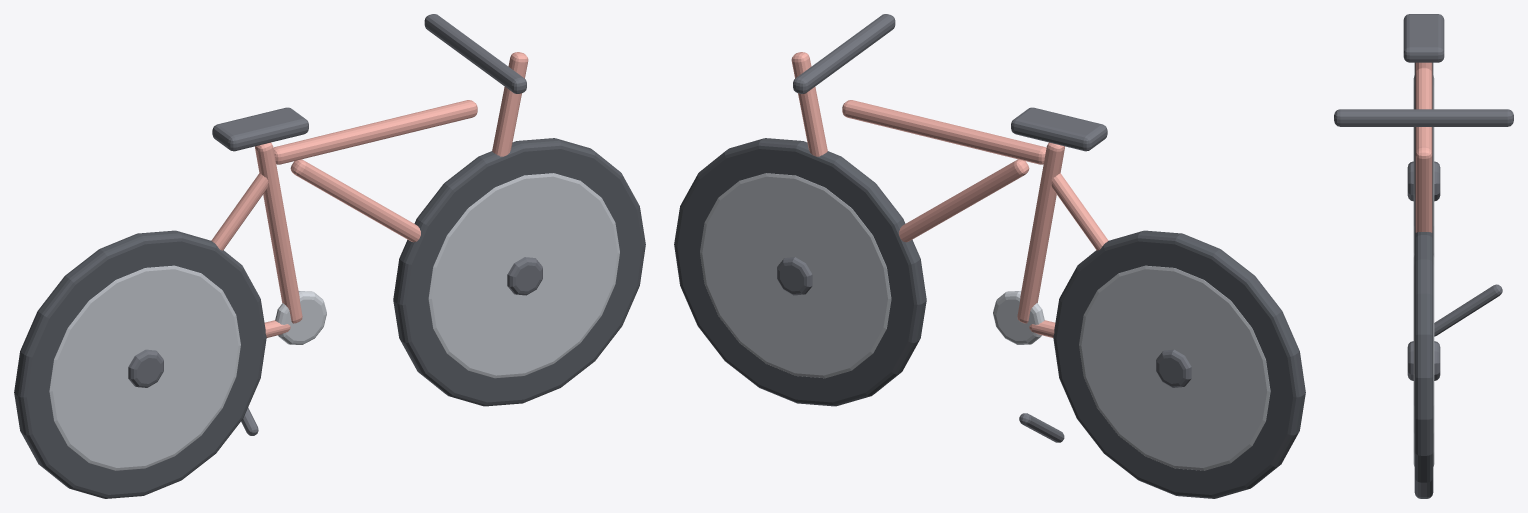
Rendered from Bicycle.fbx.
The picture shows the model from 3 angles, left to right: view 1: azimuth 30°, elevation 25°; view 2: azimuth 150°, elevation 25°; view 3: azimuth 270°, elevation 25°; orthographic projection. The views are drawn at different scales.
Parts seen in each view (by area): view 1: Bicycle; view 2: Bicycle; view 3: Bicycle.
Boxes of the visible parts, bbox=[...] form: Bicycle: bbox=[14, 14, 645, 498]; Bicycle: bbox=[674, 14, 1305, 498]; Bicycle: bbox=[1334, 14, 1513, 498].
Bounding box in the file's own units: 1.72 × 0.96 × 0.44.
